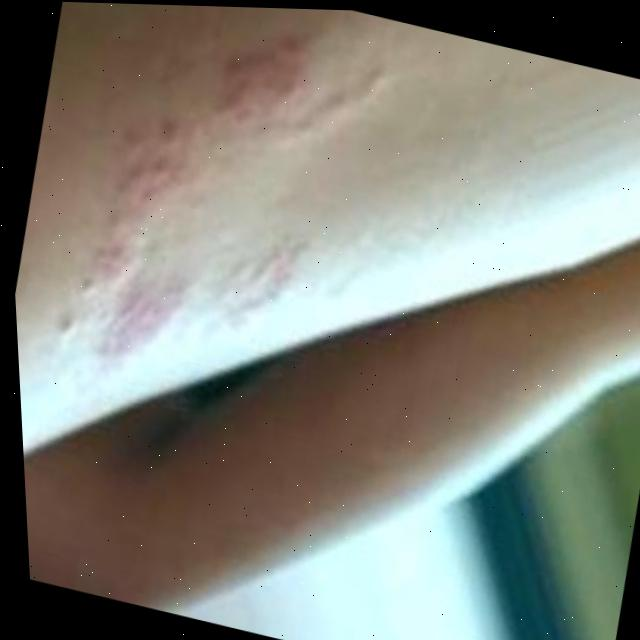Shingles: (33, 7, 343, 384)
